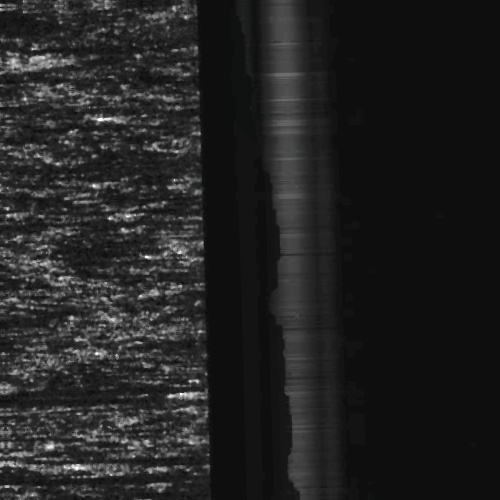object: (0, 446, 80, 457)
shadow: (18, 446, 194, 457), (0, 147, 90, 168), (0, 213, 19, 220)
